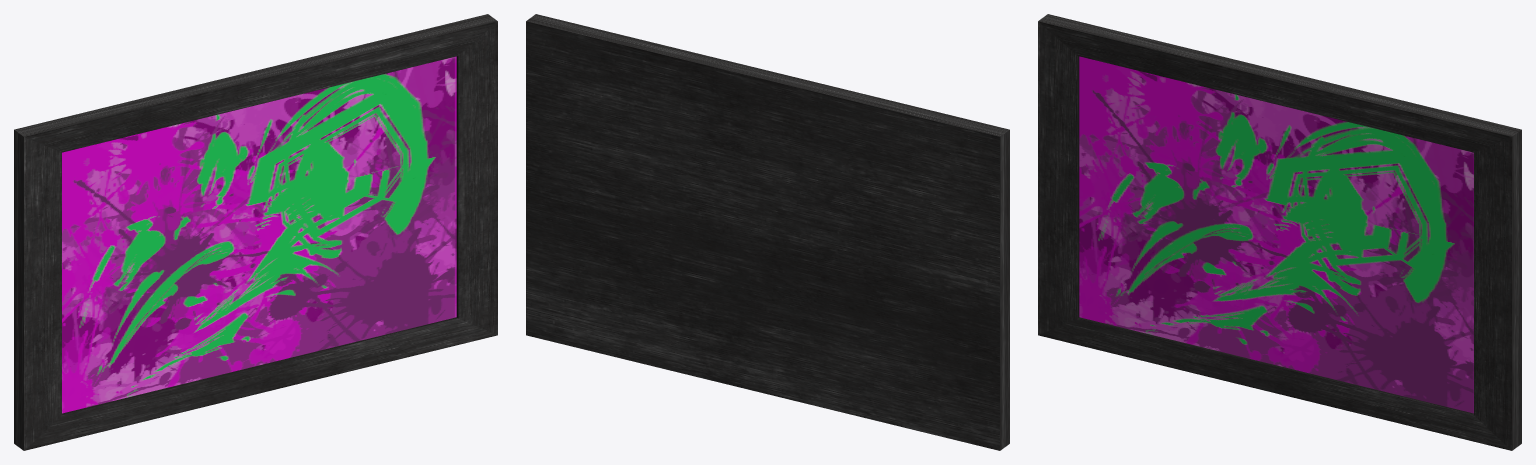
Rendered from painting_landscape_9.fbx.
3 views of the same model, side by side, from view 1: azimuth 30°, elevation 25°; view 2: azimuth 150°, elevation 25°; view 3: azimuth 330°, elevation 25° (orthographic).
Visible parts, largest first — view 1: painting_Var8.005; view 2: painting_Var8.005; view 3: painting_Var8.005.
Part boxes in pixels (<box>): painting_Var8.005: <box>14,14,497,450</box>; painting_Var8.005: <box>526,14,1009,450</box>; painting_Var8.005: <box>1038,14,1521,450</box>.
Size of the model in its own units: 113 by 71.52 by 4.11.
1 material, 1 textured.
